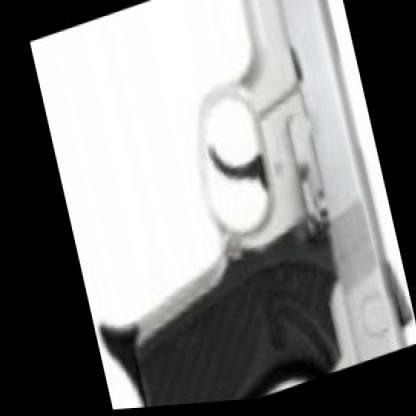pistol: (40, 0, 415, 413)
